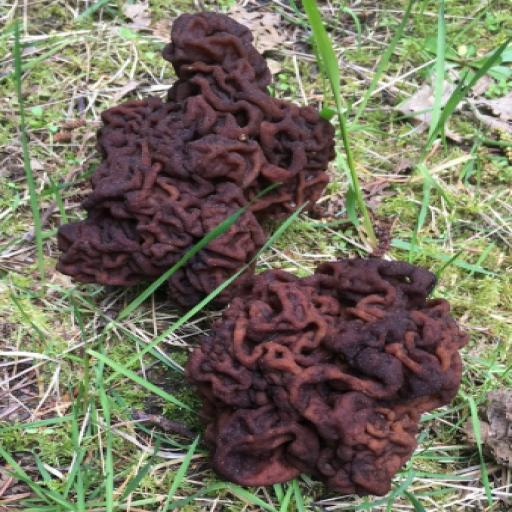mushroom: (10, 0, 374, 370), (176, 243, 475, 504), (182, 131, 286, 195)
